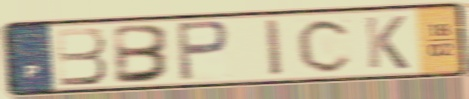B: (112, 23, 174, 86), (53, 25, 111, 88)
C: (295, 16, 356, 75)
I: (263, 17, 287, 79)
K: (362, 14, 412, 71)
P: (174, 18, 233, 83)
